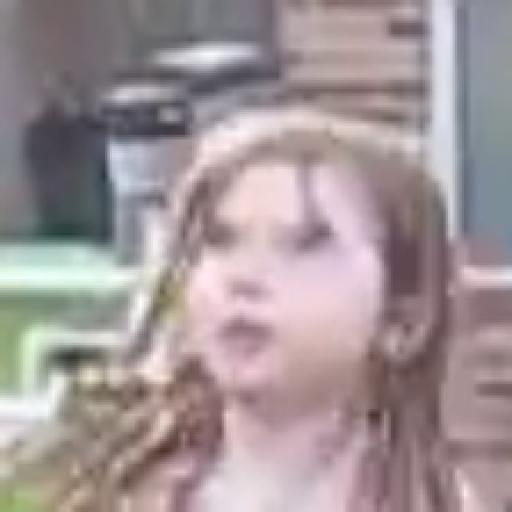Autism: (106, 44, 417, 496)
